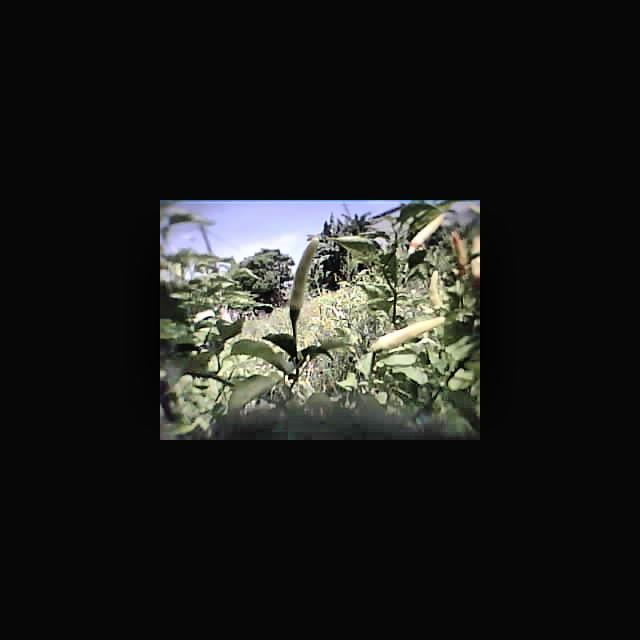Cabai: (410, 210, 446, 254)
